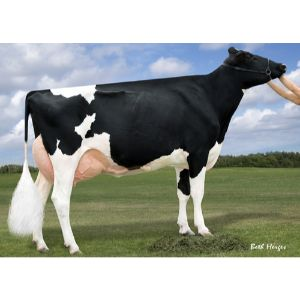cow: (11, 44, 287, 254)
